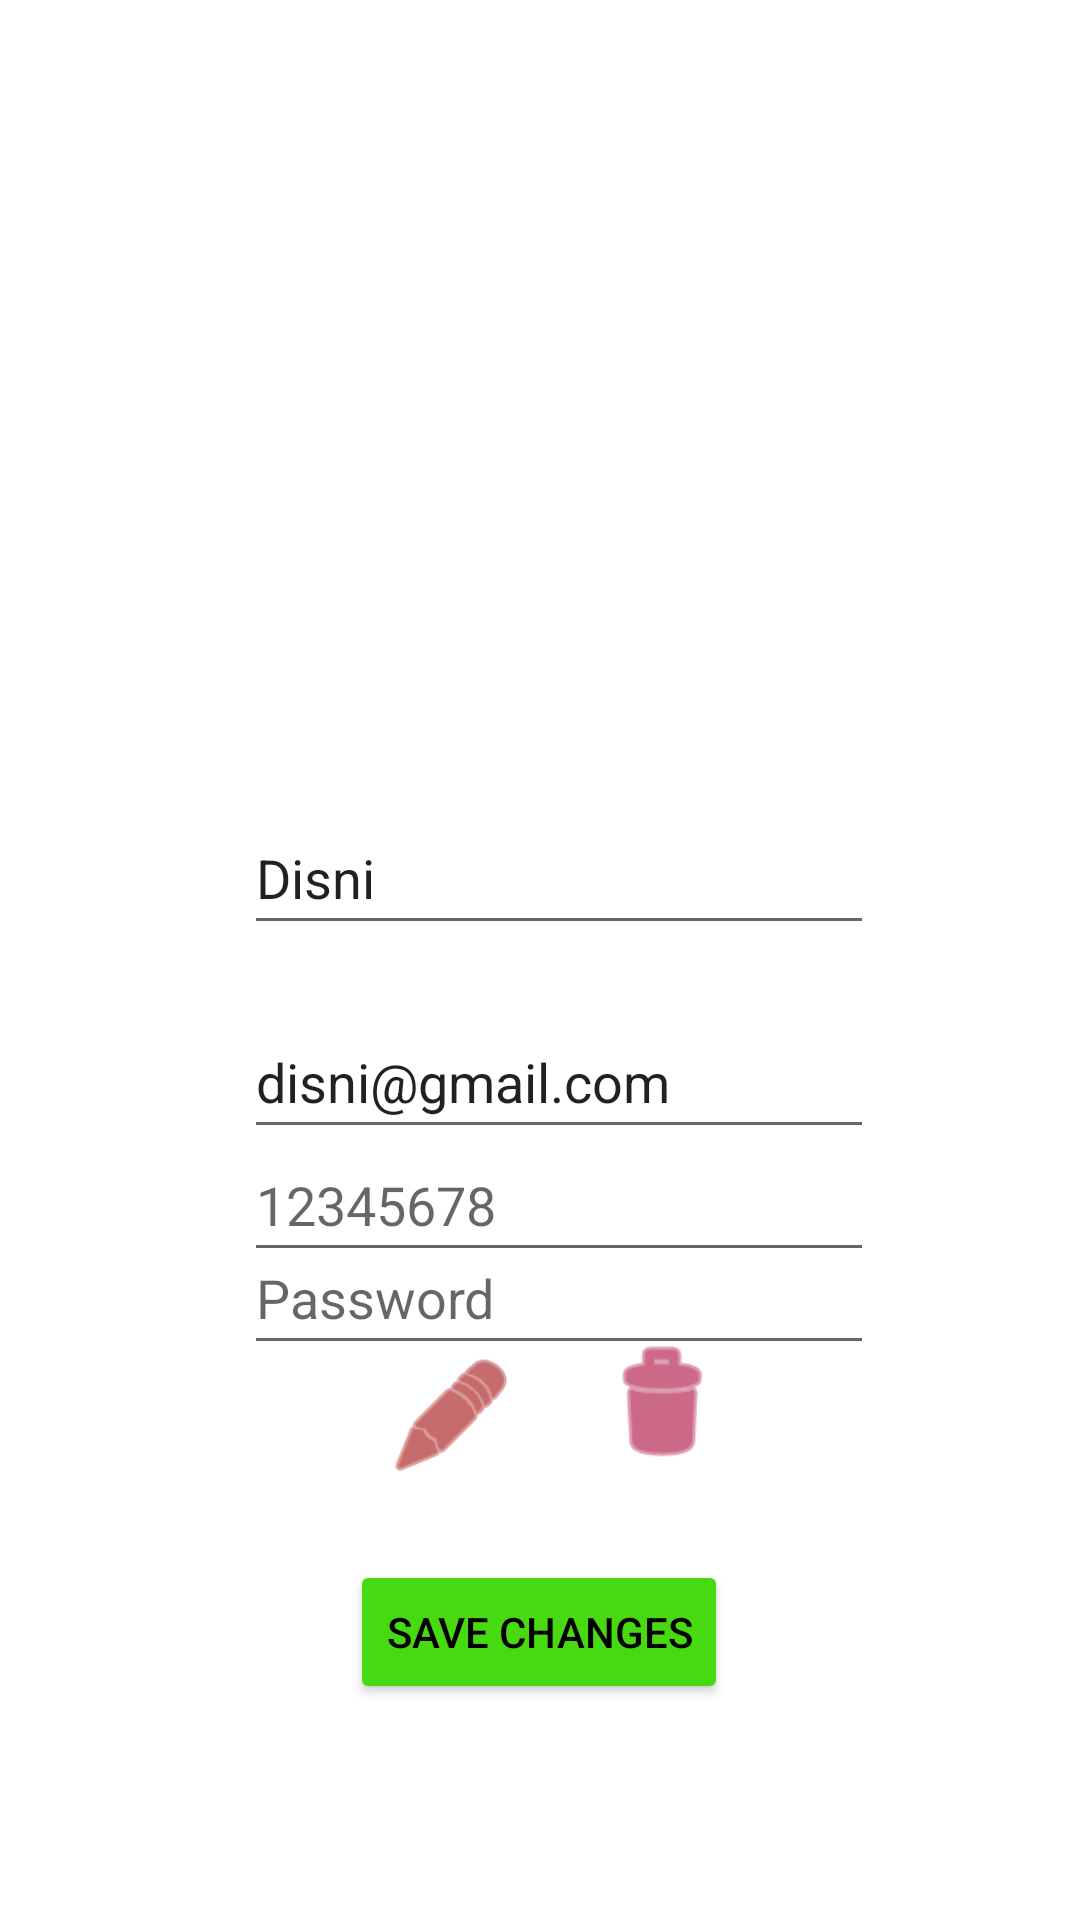

Icons on this 1080×1920 Android screen, each with its box as (x1, y1, x2, y2):
delete: (622, 1346, 702, 1457)
edit: (395, 1359, 507, 1471)
